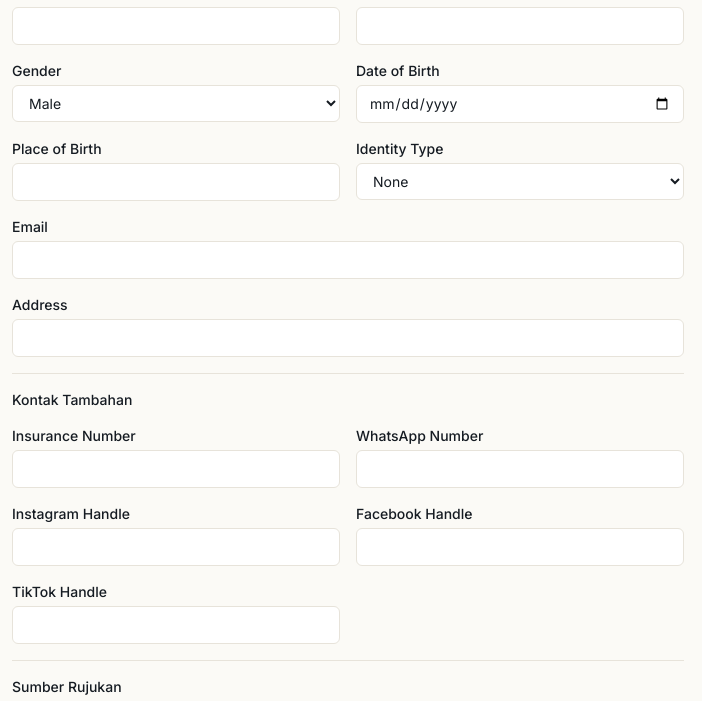
RegisterPatientForm › shows the backend error message when registration fails
Step 1. Type "Jane Roe" into the field labelled "Full Name" → (176,26), box 12,7 -> 340,45
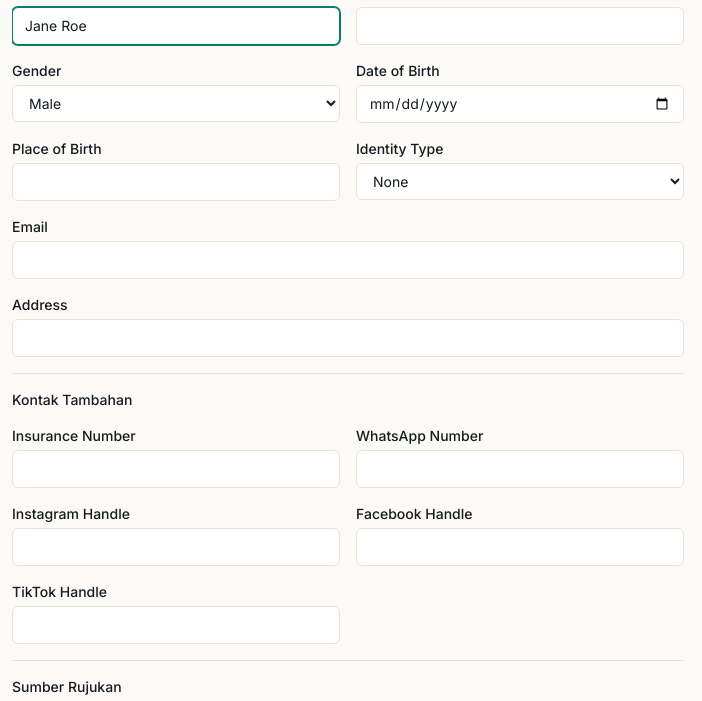
Step 2. Type "0812345" into the field labelled "Phone Number" → (520,26), box 356,7 -> 684,45
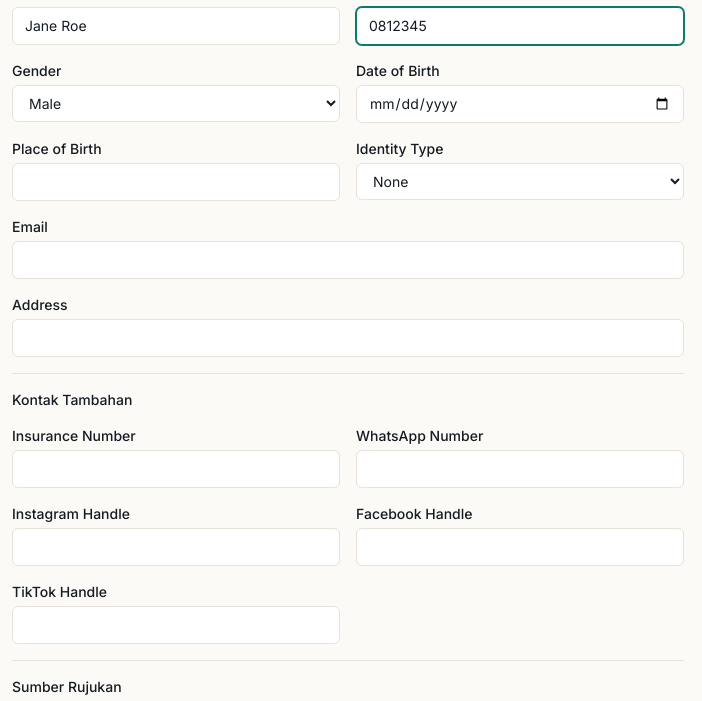
Step 3. Type "2000-01-01" into the date field labelled "Date of Birth" → (520,104), box 356,85 -> 684,123
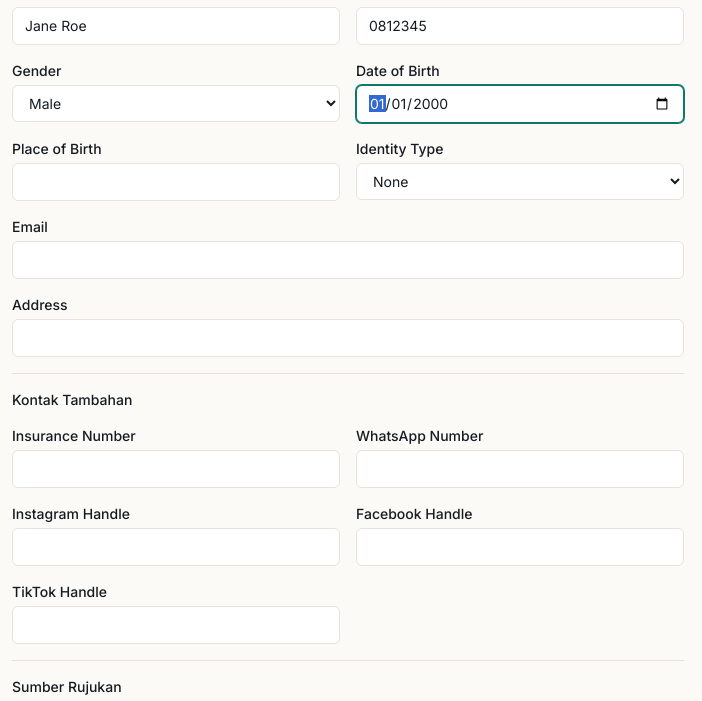
Step 4. Type "Jl. Contoh No. 1" into the field labelled "Address" → (348,338), box 12,319 -> 684,357
(page scrolled)
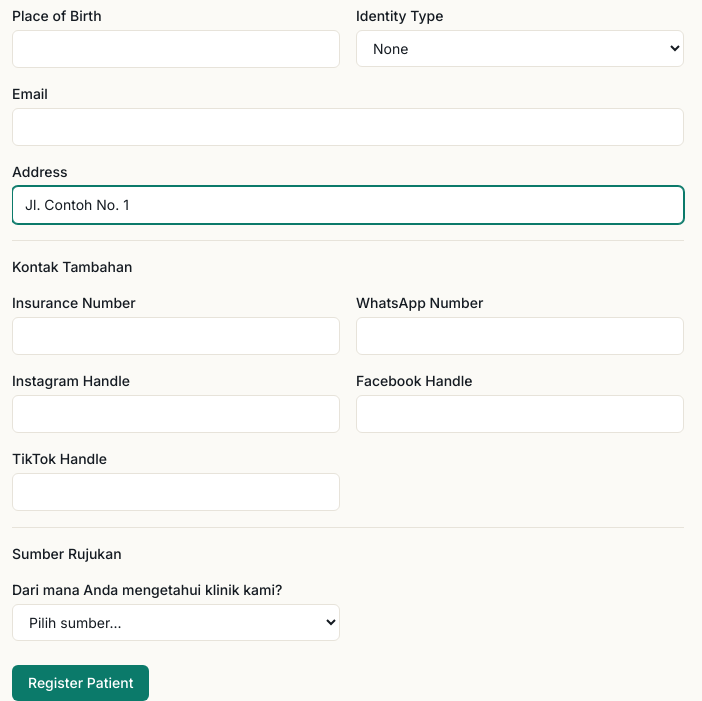
Step 5. Click the button "Register Patient" → (81,683), box 12,665 -> 149,700
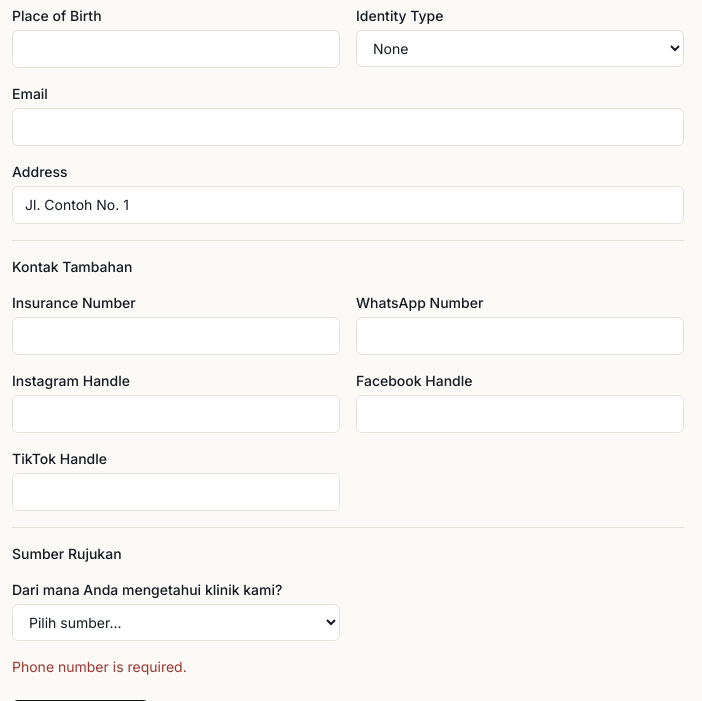
Now the message reads "Phone number is required.", box 12,658 -> 187,675
